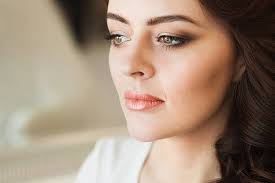n.sharp: (121, 35, 156, 81)
